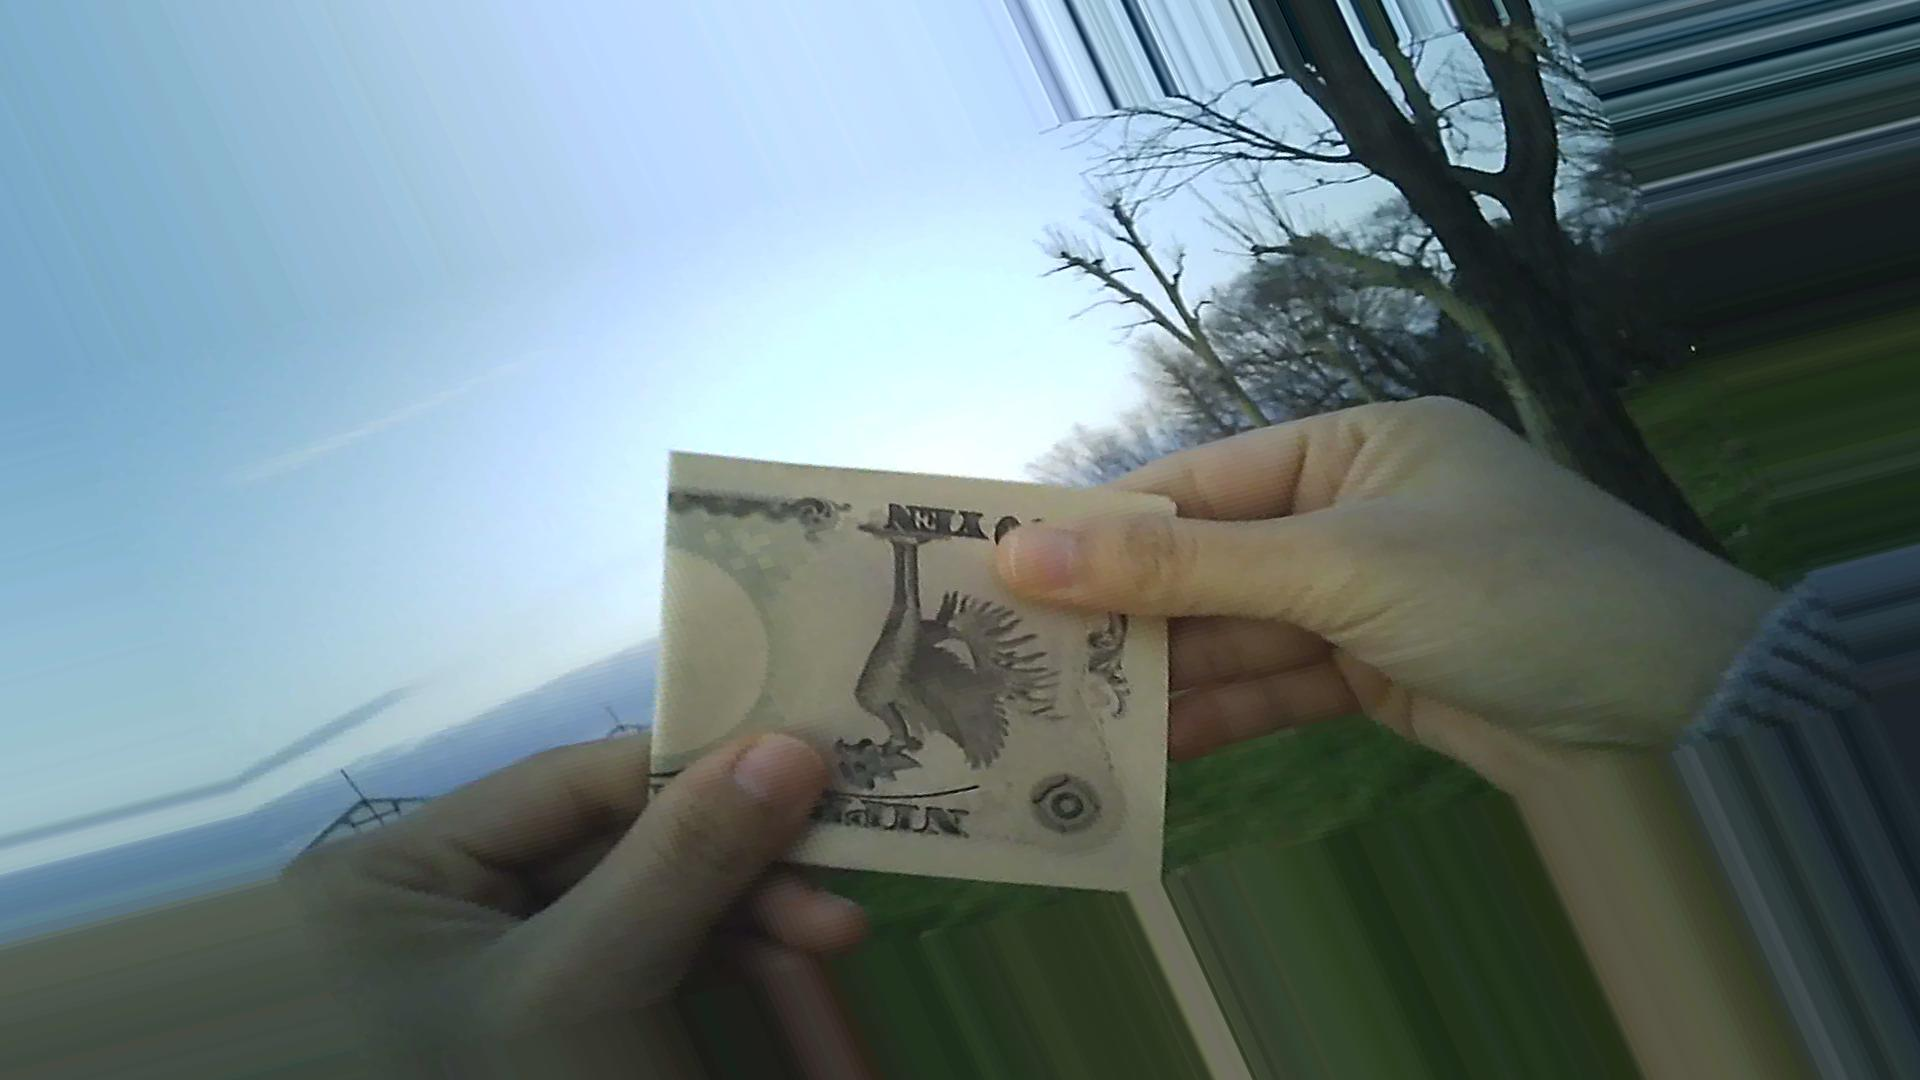10,000 Yen: (629, 430, 1174, 891)
